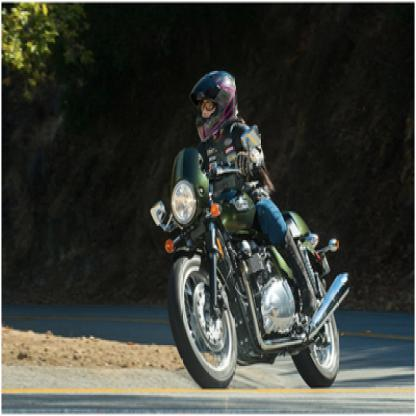With Helmet: (186, 68, 241, 140)
